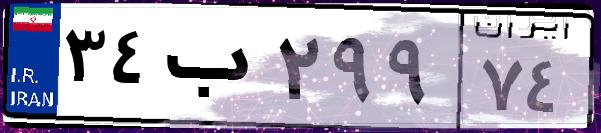2: (270, 28, 330, 110)
3: (57, 26, 110, 100)
4: (525, 38, 570, 115), (110, 28, 158, 98)
7: (475, 38, 525, 113)
9: (385, 28, 445, 110), (330, 28, 385, 110)
ب: (158, 20, 270, 120)
